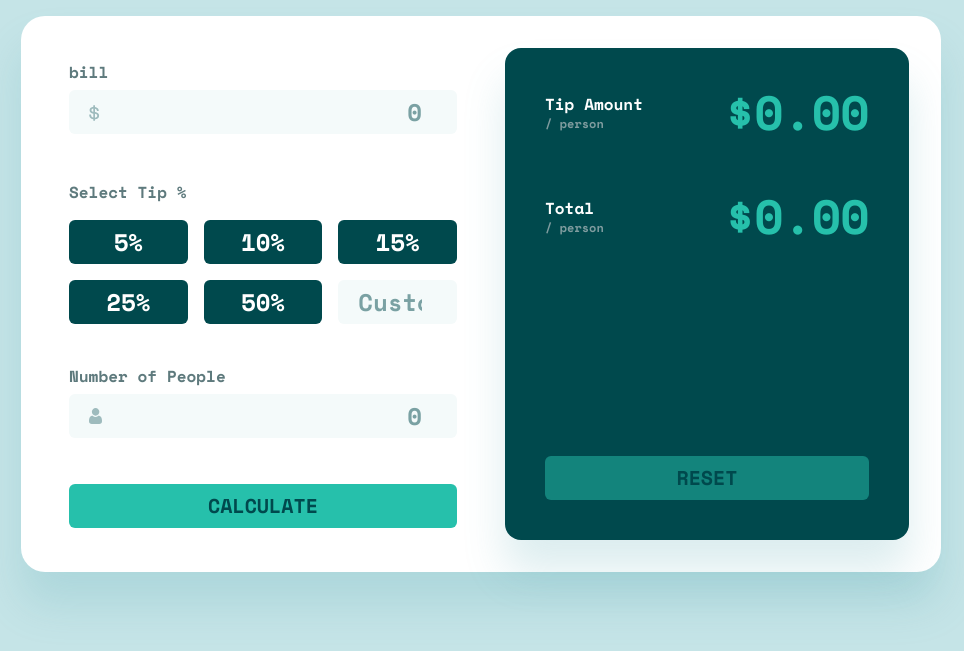
Tip Calculator App › shows an error if the bill is empty and prevents calculation
Click the radio button labelled "10%": [263, 242] box [204, 220, 322, 264]
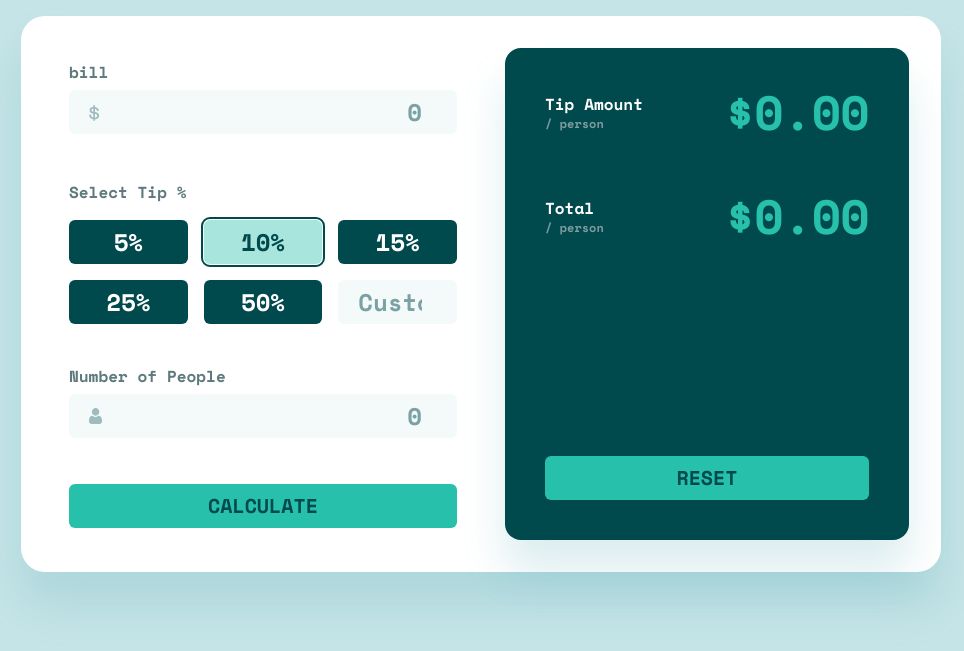
In the number field labelled "Number of People": [263, 416] box [69, 394, 457, 438], type "4"
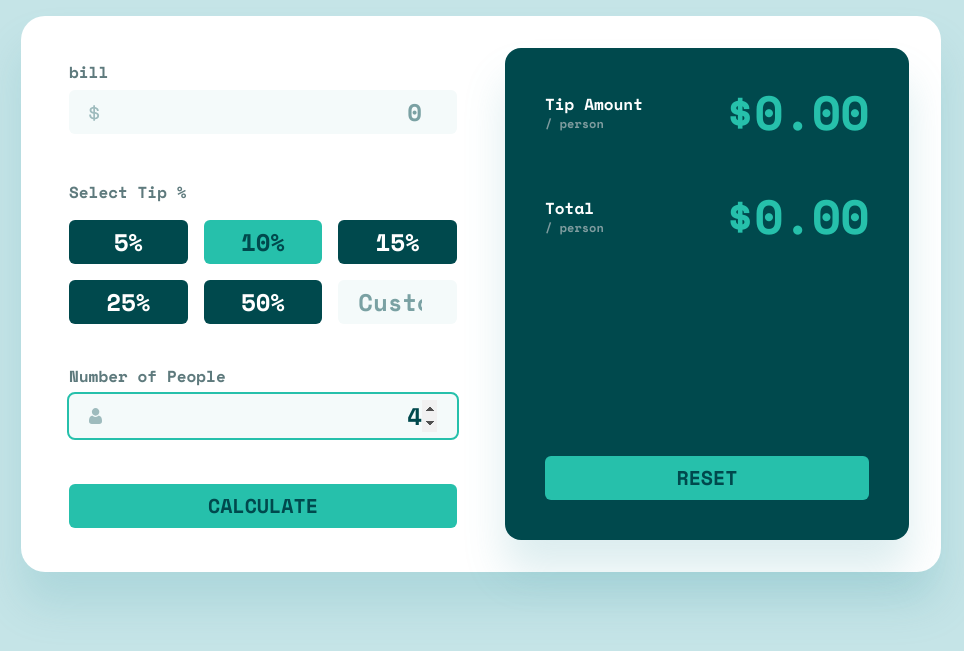
Click the button "Calculate": [263, 506] box [69, 484, 457, 528]
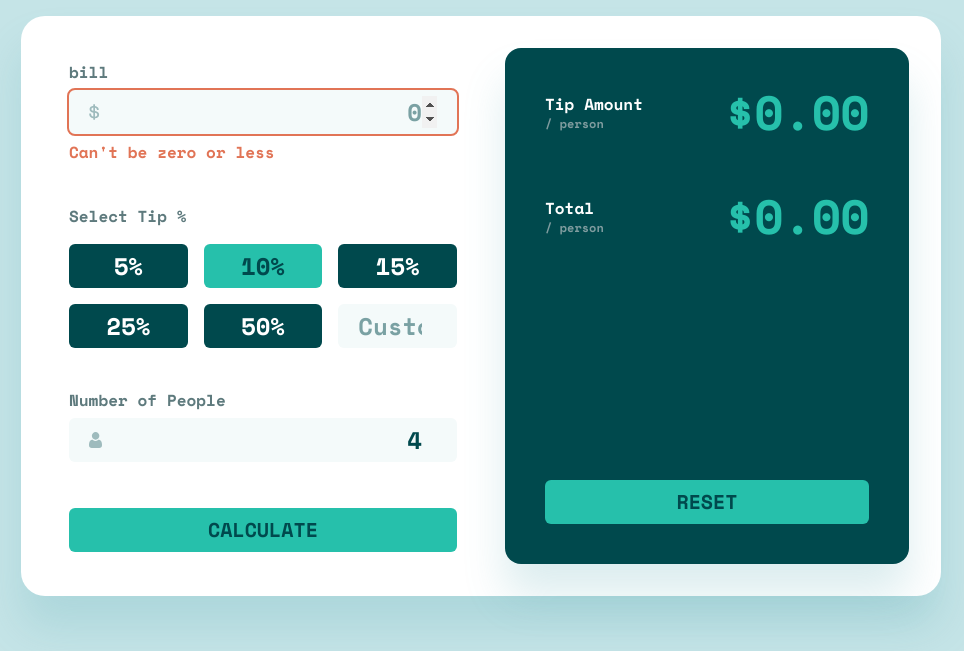
Expected: the text "Can't be zero or less" is shown, [69, 140, 275, 164]
